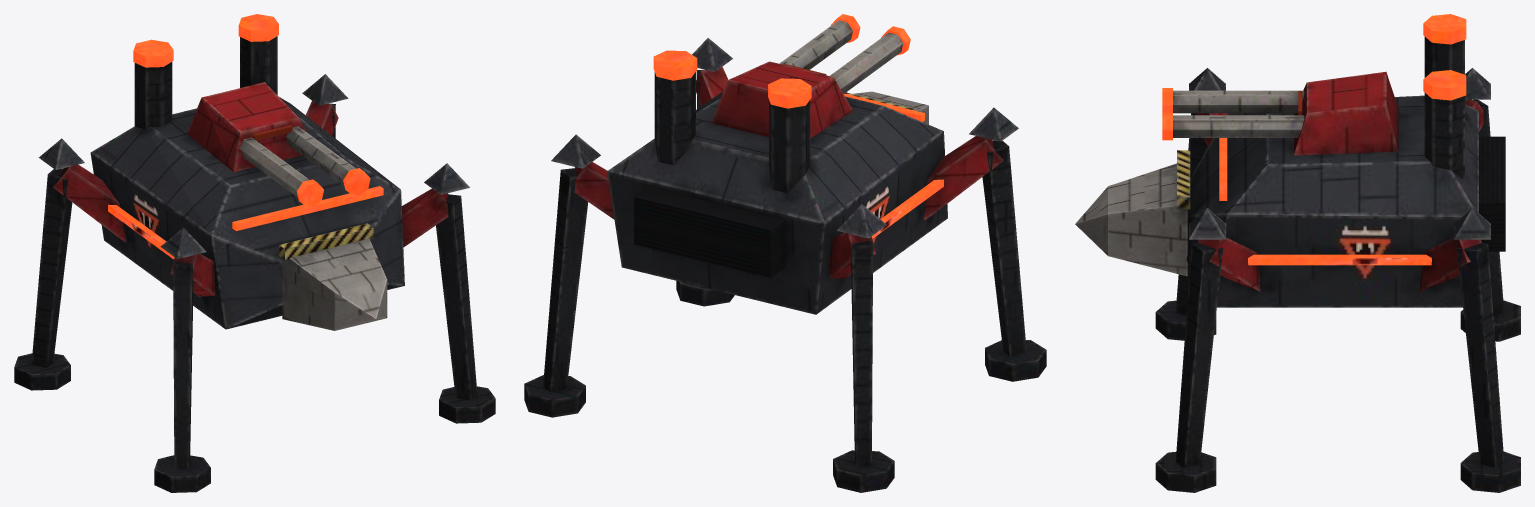
File: s_worldbreaker_e.glb
The picture shows the model from 3 angles, left to right: view 1: azimuth 30°, elevation 25°; view 2: azimuth 150°, elevation 25°; view 3: azimuth 270°, elevation 25°; orthographic projection. The views are drawn at different scales.
Visible parts, largest first — view 1: s_worldbreaker_e; view 2: s_worldbreaker_e; view 3: s_worldbreaker_e.
Boxes of the visible parts, x1,y1,x2,y2 form: s_worldbreaker_e: [14, 14, 495, 492]; s_worldbreaker_e: [524, 14, 1046, 492]; s_worldbreaker_e: [1075, 14, 1520, 492].
Bounding box in the file's own units: 3.33 × 3.09 × 3.53.
Materials: 1 (1 with a texture image).
